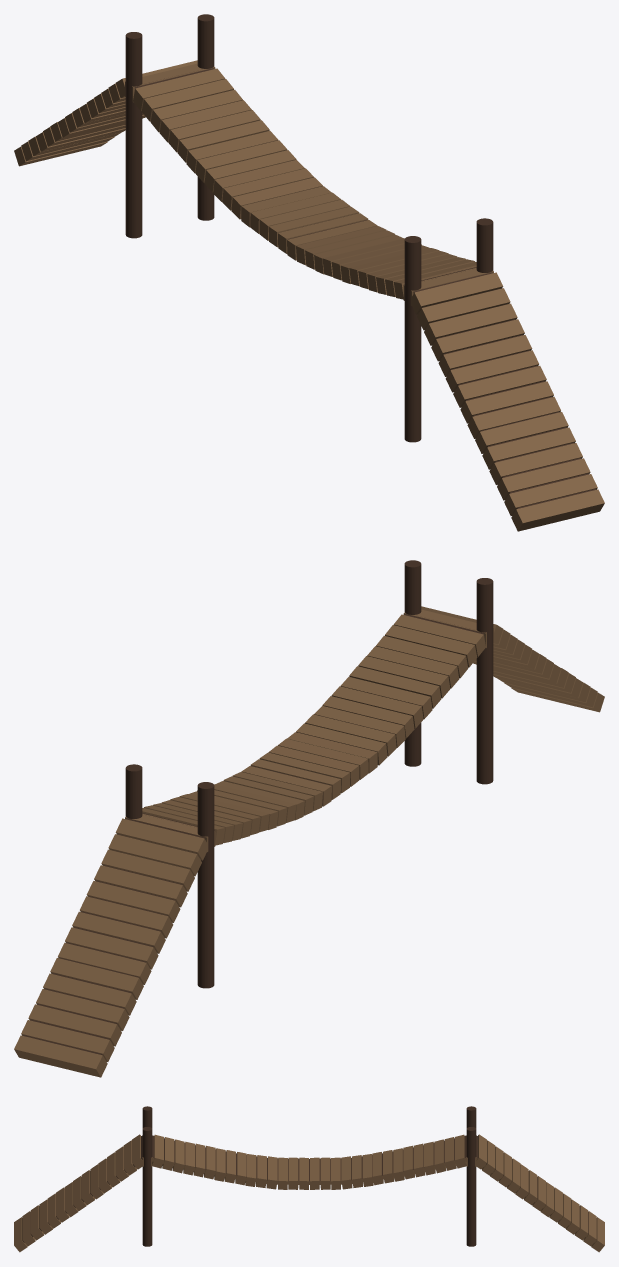
Rendered from pont.fbx.
3 views of the same model, one above another, from view 1: azimuth 30°, elevation 25°; view 2: azimuth 150°, elevation 25°; view 3: azimuth 270°, elevation 25° (orthographic). The views are drawn at different scales.
Visible parts, largest first — view 1: Cube.002; view 2: Cube.002; view 3: Cube.002.
Boxes of the visible parts, bbox=[...] form: Cube.002: bbox=[14, 14, 604, 531]; Cube.002: bbox=[14, 560, 604, 1077]; Cube.002: bbox=[14, 1106, 604, 1252].
Size of the model in its own units: 1200 by 2795 by 12250.
